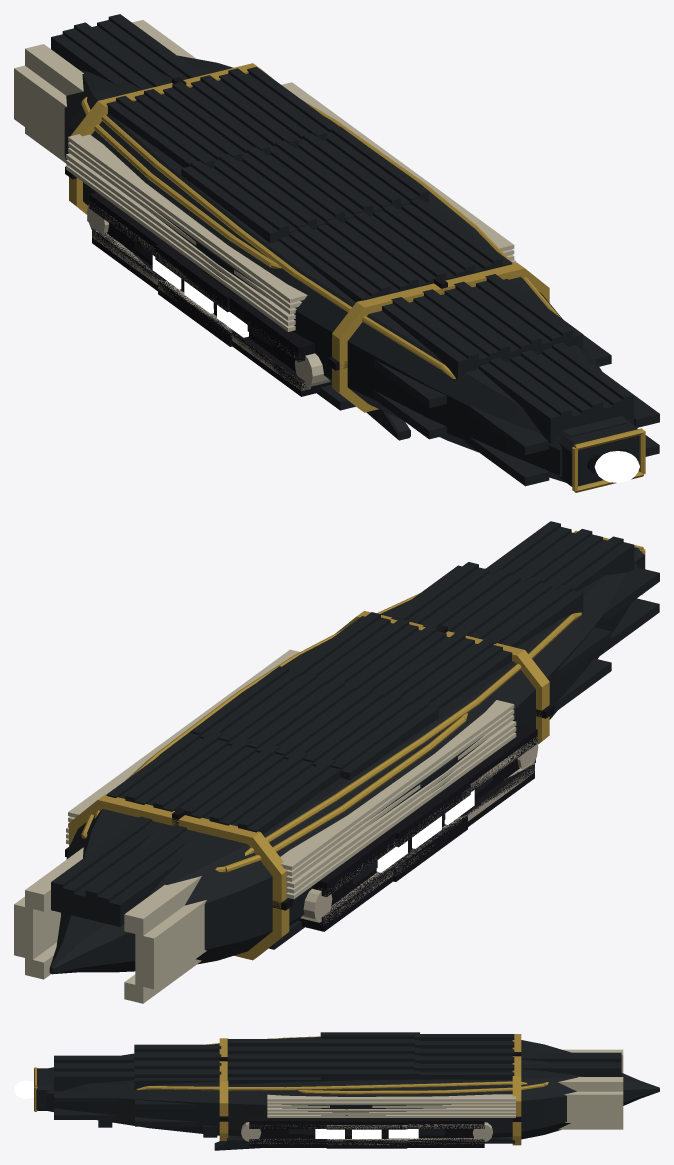
The picture shows the model from 3 angles, top to bottom: view 1: azimuth 30°, elevation 25°; view 2: azimuth 150°, elevation 25°; view 3: azimuth 270°, elevation 25°; orthographic projection. The views are drawn at different scales.
Visible parts, largest first — view 1: RIMWARD_HULL, RIMWARD_EMISSIVE, RIMWARD_ENGINE_GLOW; view 2: RIMWARD_HULL, RIMWARD_EMISSIVE; view 3: RIMWARD_HULL, RIMWARD_EMISSIVE, RIMWARD_ENGINE_GLOW.
Part boxes in pixels (bbox=[...]): RIMWARD_HULL: bbox=[14, 14, 659, 492]; RIMWARD_EMISSIVE: bbox=[152, 255, 248, 337]; RIMWARD_ENGINE_GLOW: bbox=[594, 451, 639, 482]; RIMWARD_HULL: bbox=[14, 521, 659, 1003]; RIMWARD_EMISSIVE: bbox=[376, 790, 474, 872]; RIMWARD_HULL: bbox=[34, 1032, 659, 1150]; RIMWARD_EMISSIVE: bbox=[315, 1129, 418, 1138]; RIMWARD_ENGINE_GLOW: bbox=[14, 1080, 33, 1098].
Size of the model in its own units: 1.8 by 1.07 by 7.39.
